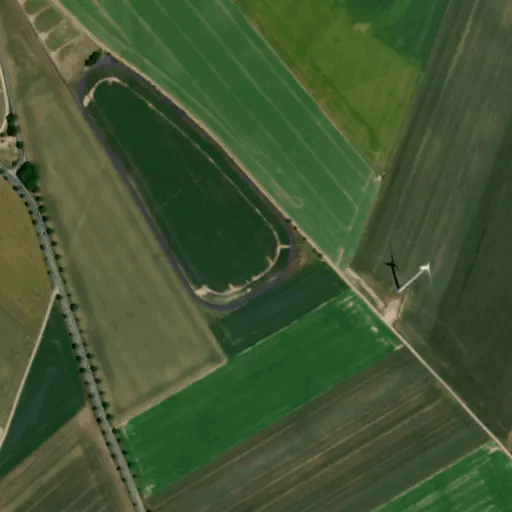wt: (378, 232, 437, 315)
